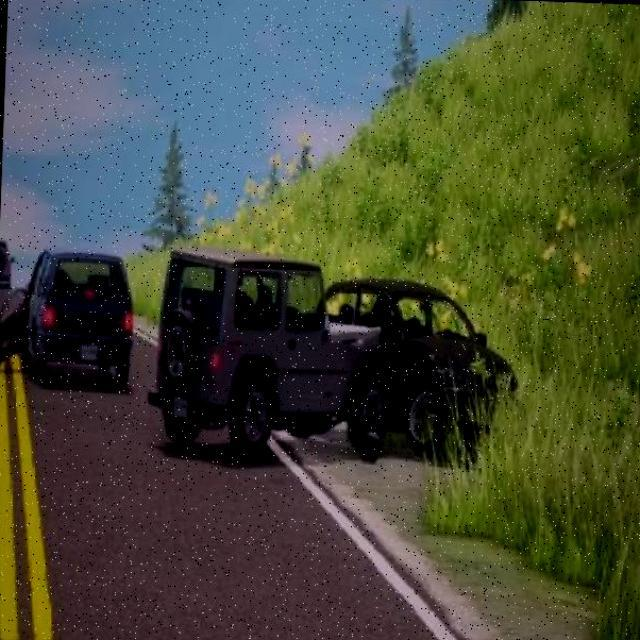accident: (152, 237, 525, 478)
